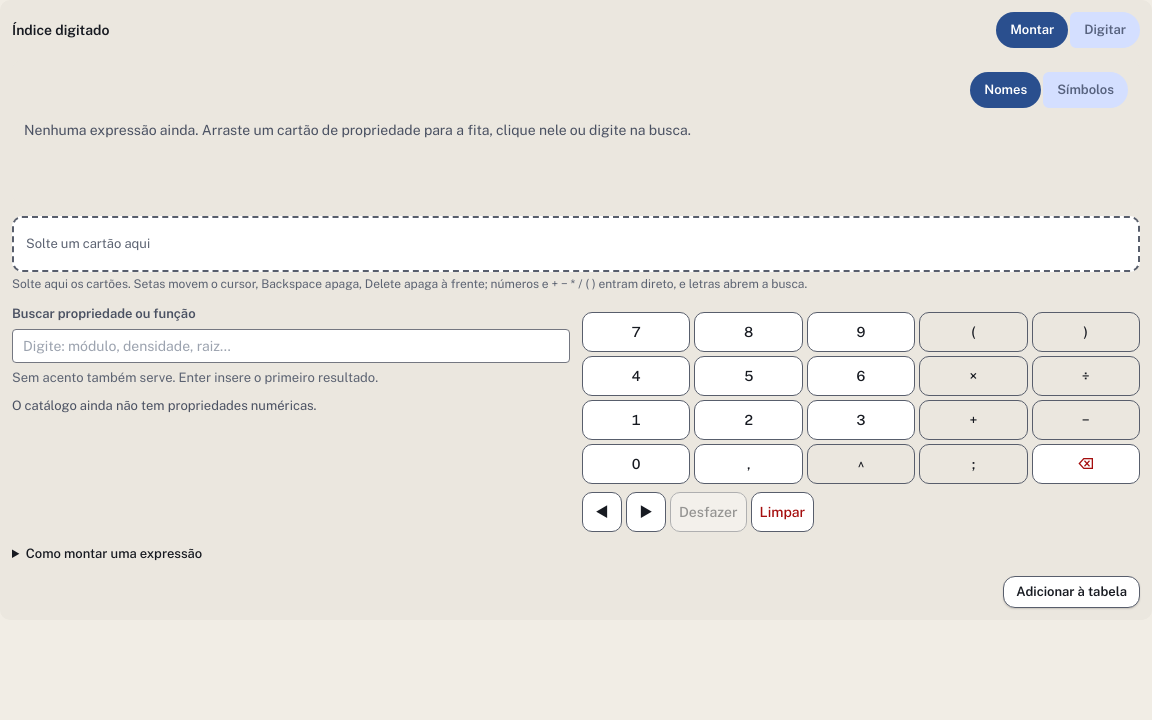
Scenario: CustomIndexForm: índice digitado no comparador (D-153) › mostra a mensagem escrita do servidor e não adiciona a expressão recusada
The width and height of the screenshot is (1152, 720).
Step 1. Click the button "Digitar" → click(1105, 30), box [1070,12,1140,48]
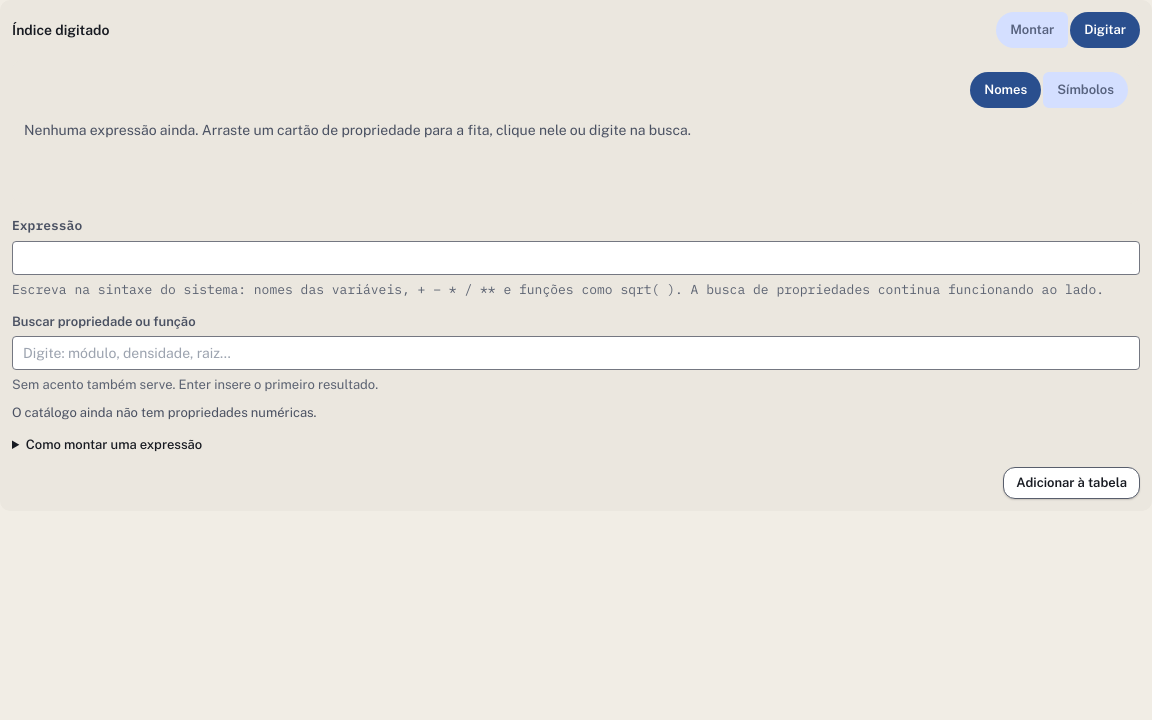
Step 2. Type "xyz / densidade" into the field labelled "Expressão" → (576, 258), box [12,240,1140,274]
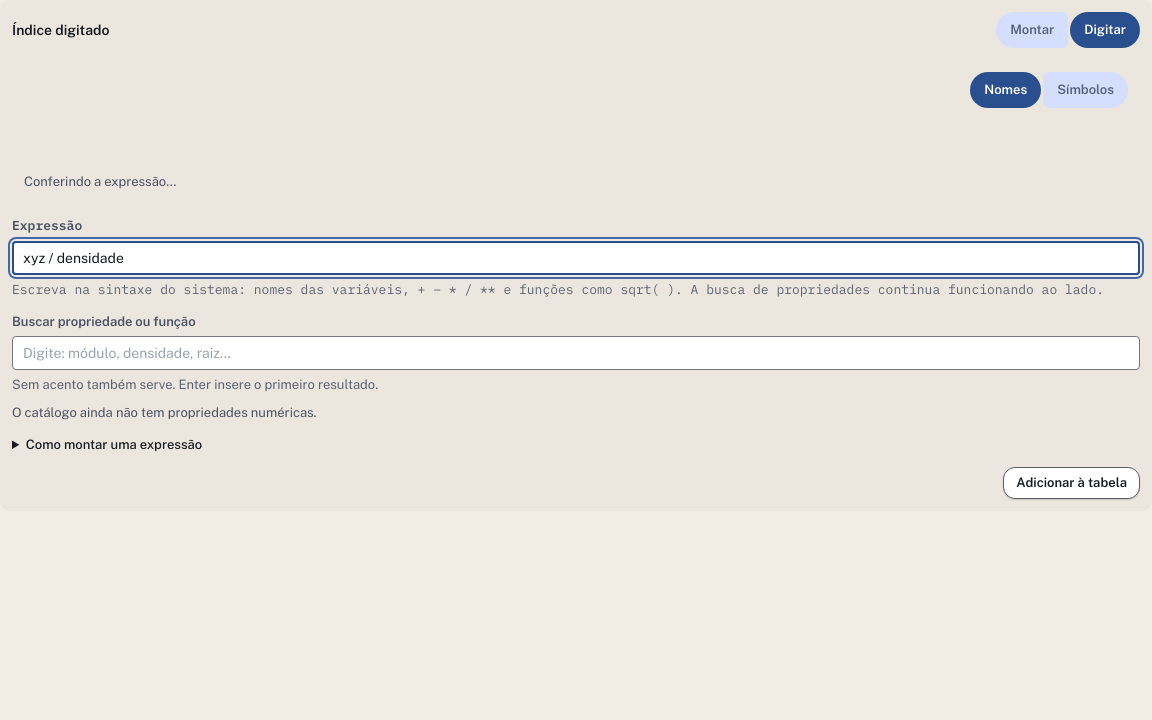
Step 3. Click the button "Adicionar à tabela" → click(1072, 483), box [1003,467,1140,499]
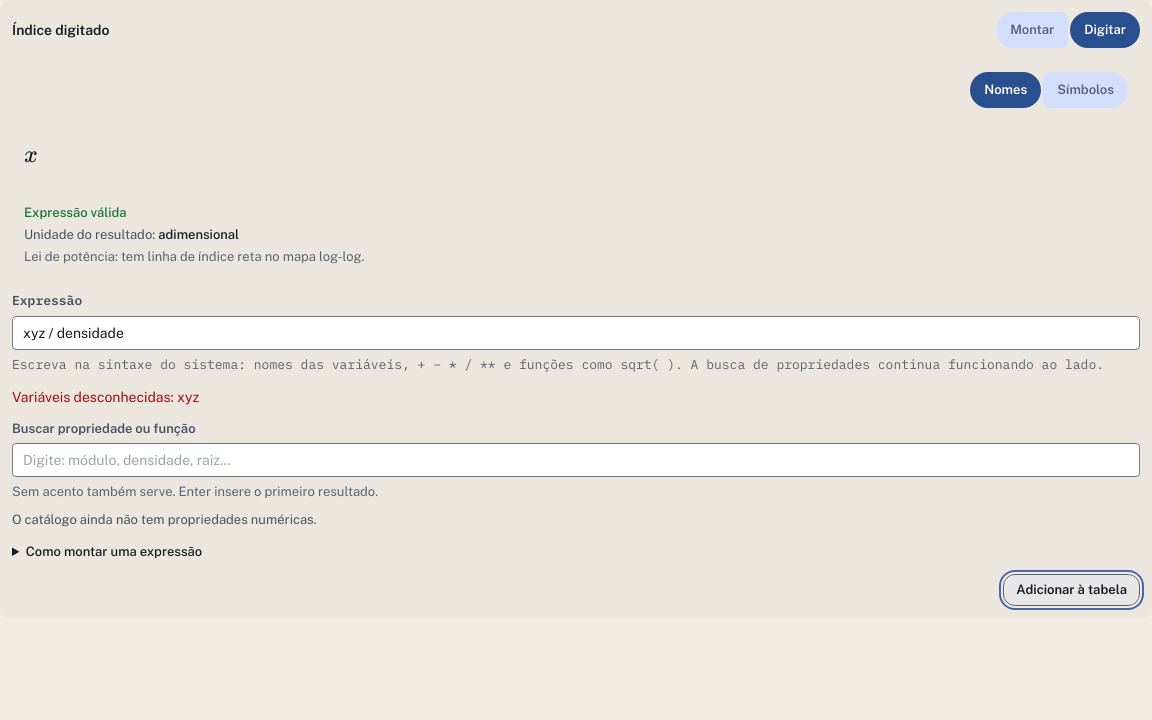
Check: the message reads "Variáveis desconhecidas: xyz", box [12,388,199,404]
